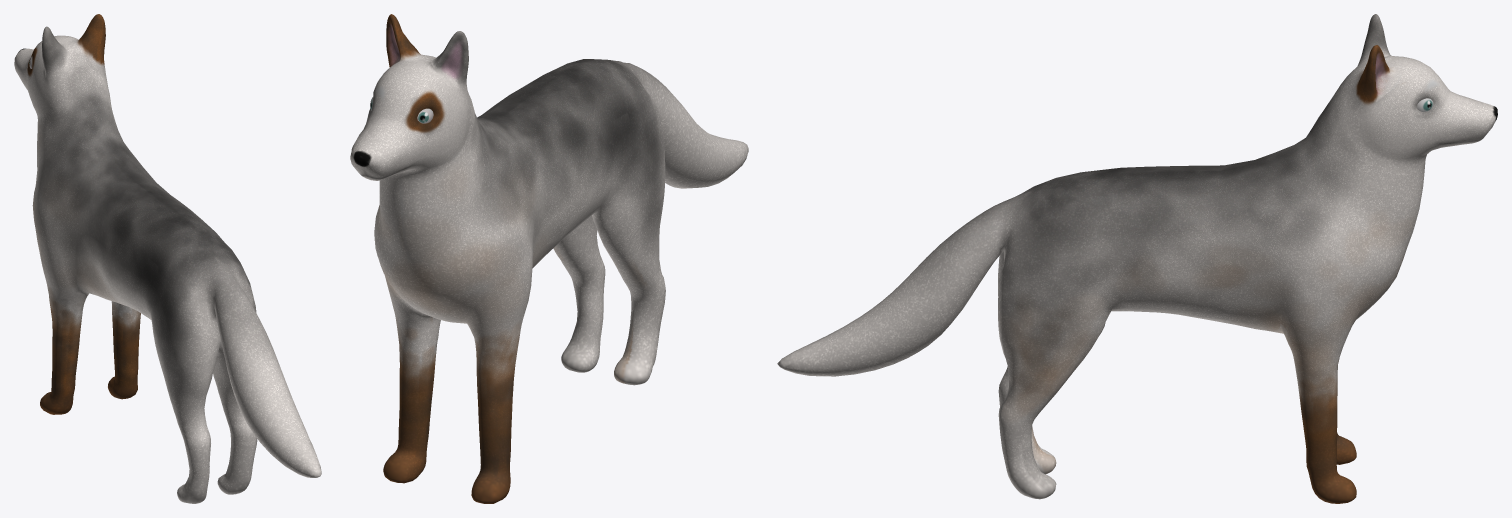
The model's file is dogforexport.glb.
The picture shows the model from 3 angles, left to right: view 1: azimuth 30°, elevation 25°; view 2: azimuth 150°, elevation 25°; view 3: azimuth 270°, elevation 25°; orthographic projection. The views are drawn at different scales.
Visible parts, largest first — view 1: retorpo; view 2: retorpo; view 3: retorpo.
Part boxes in pixels (left/top/right/bottom): retorpo: left=14, top=14, right=321, bottom=503; retorpo: left=350, top=14, right=748, bottom=503; retorpo: left=777, top=14, right=1497, bottom=503.
Bounding box in the file's own units: 1.19 × 4.07 × 5.85.
Materials: 1 (1 with a texture image).
